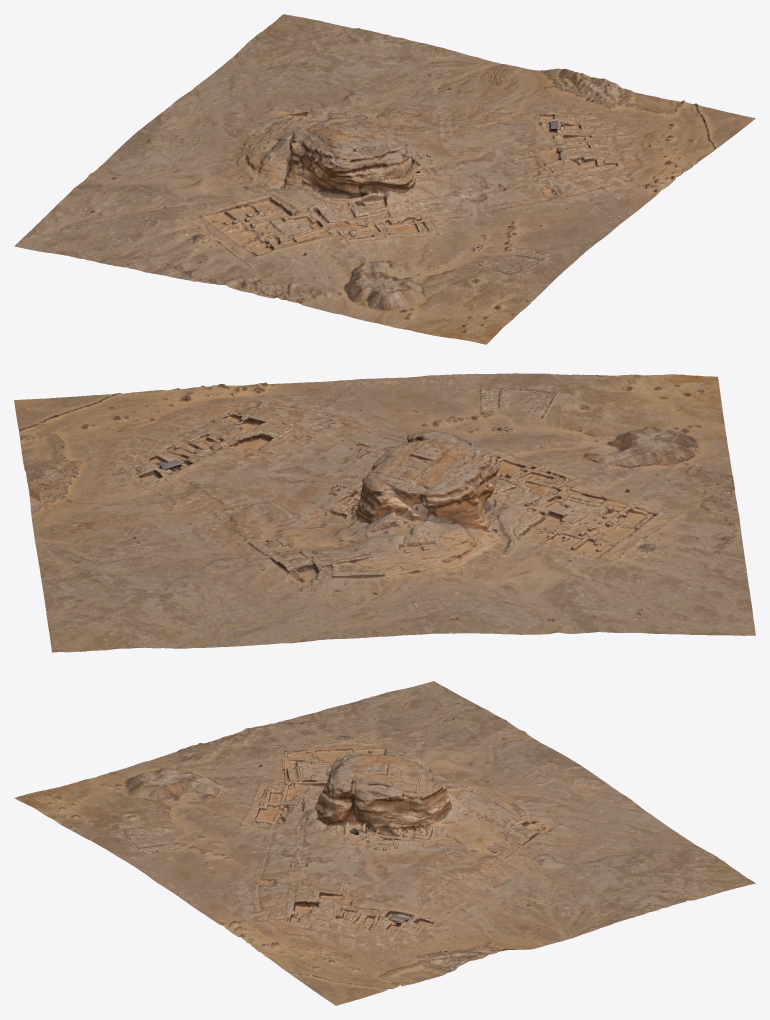
3 views of the same model, one above another, from view 1: azimuth 30°, elevation 25°; view 2: azimuth 150°, elevation 25°; view 3: azimuth 270°, elevation 25° (orthographic). The views are drawn at different scales.
Parts seen in each view (by area): view 1: SAU_001_M2_OldCity_LP; view 2: SAU_001_M2_OldCity_LP; view 3: SAU_001_M2_OldCity_LP.
Boxes of the visible parts, <box> form: SAU_001_M2_OldCity_LP: <box>14,14,755,344</box>; SAU_001_M2_OldCity_LP: <box>14,373,755,652</box>; SAU_001_M2_OldCity_LP: <box>14,681,755,1005</box>.
Size of the model in its own units: 143 by 12.85 by 140.
1 material, 1 textured.
